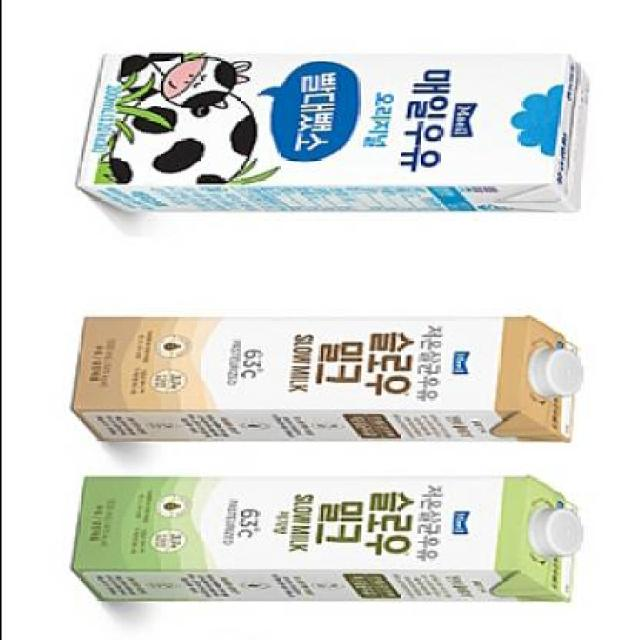tetra: (65, 35, 610, 223), (46, 464, 611, 614), (55, 304, 600, 454)
